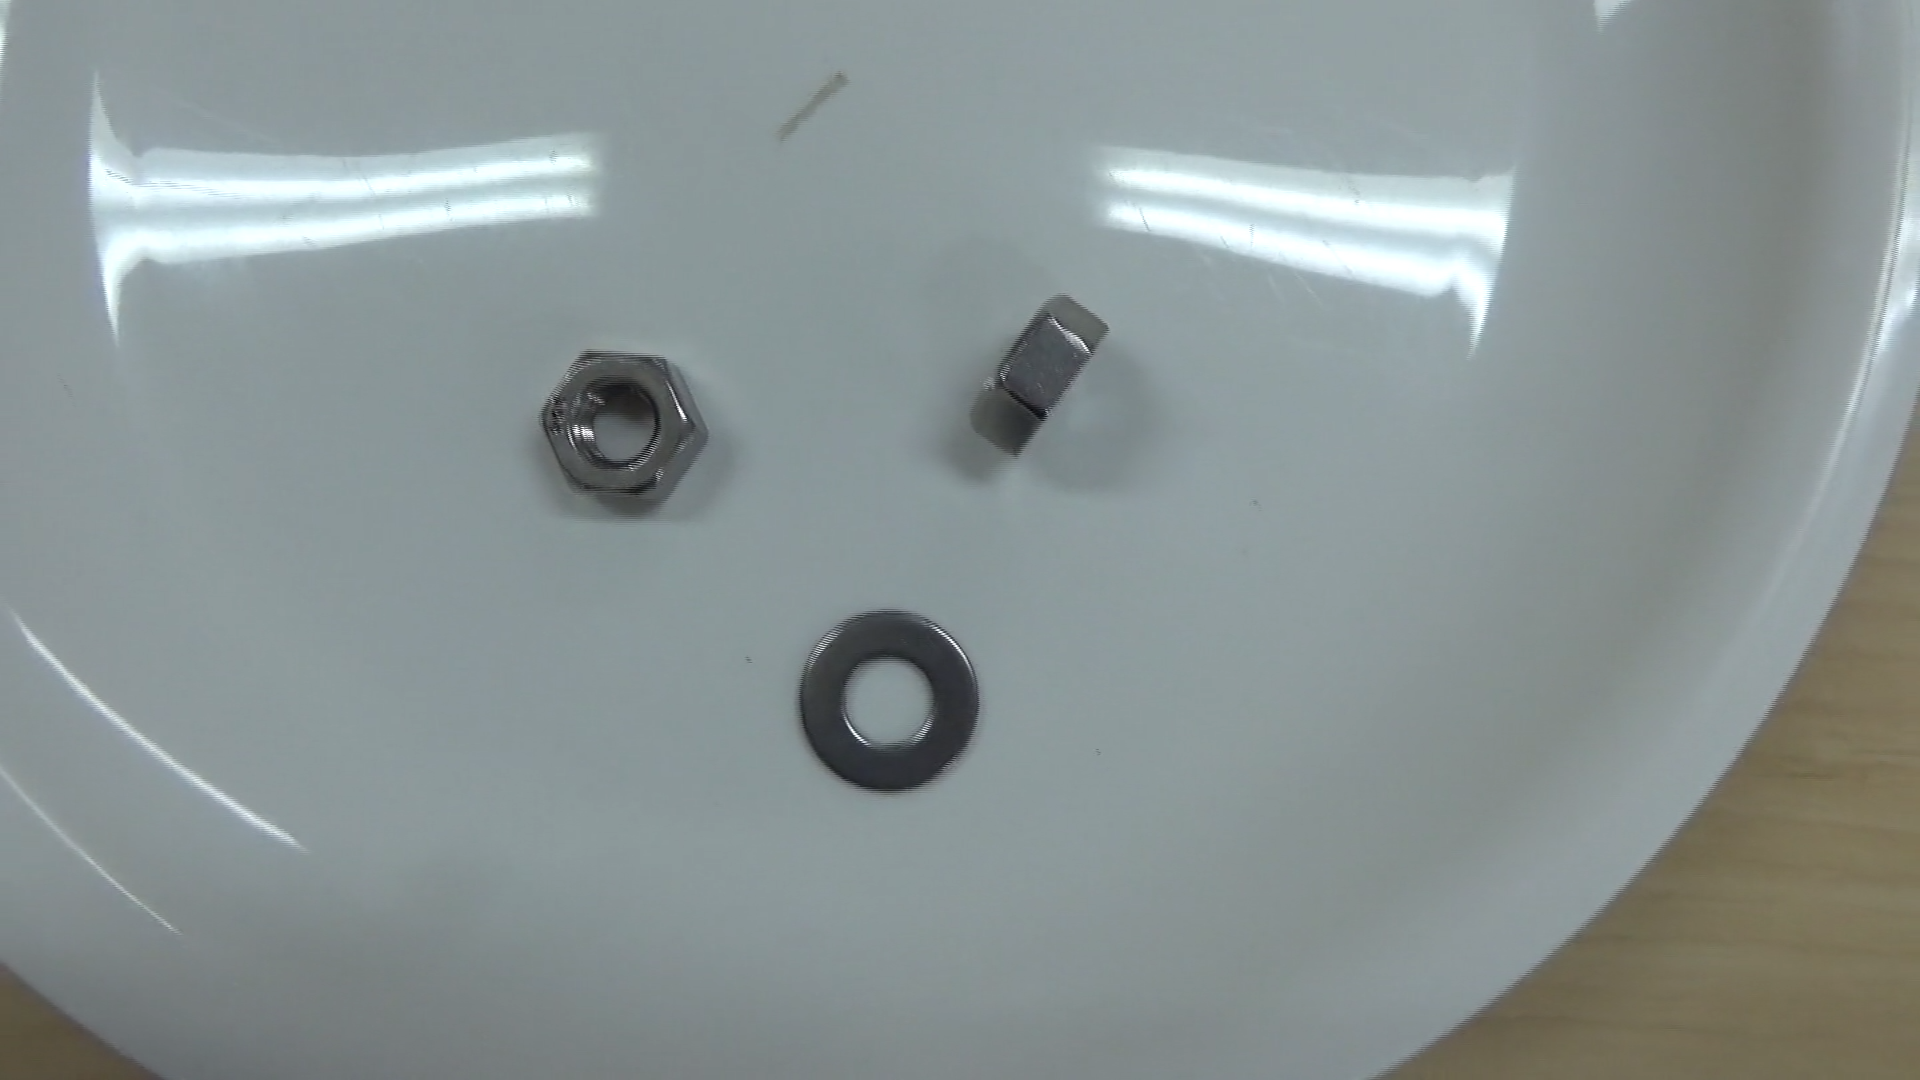nut: (529, 343, 716, 529), (949, 284, 1117, 471)
washer: (785, 603, 989, 804)
